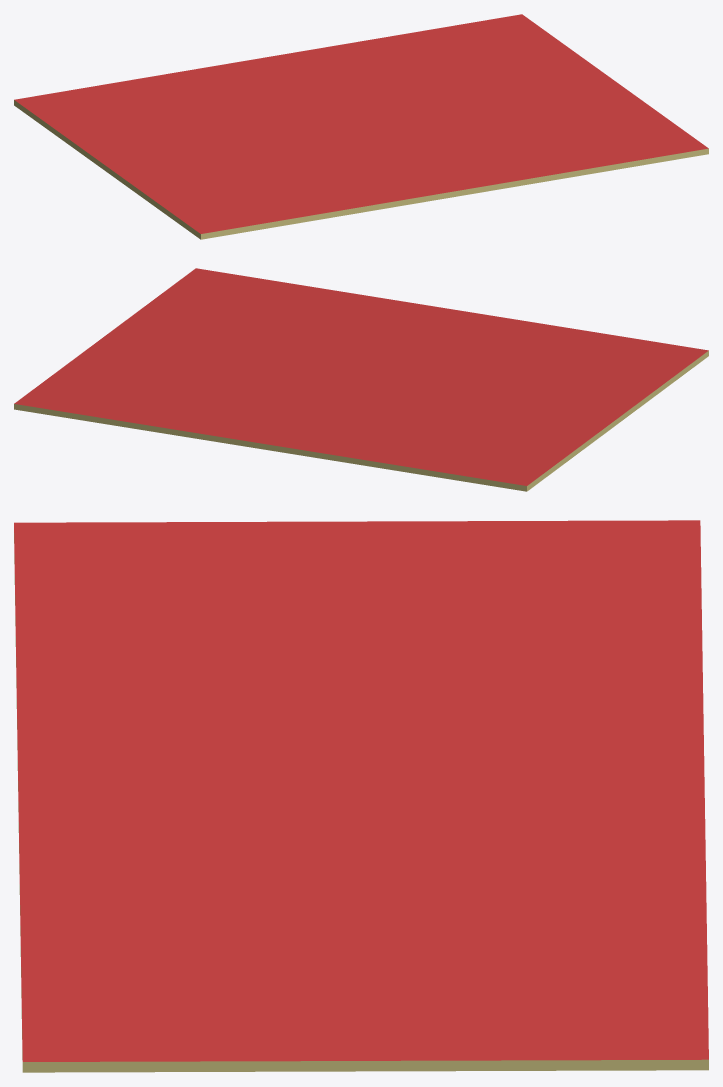
3 renders of one model, top to bottom at view 1: azimuth 30°, elevation 25°; view 2: azimuth 150°, elevation 25°; view 3: azimuth 270°, elevation 25°, orthographic. The views are drawn at different scales.
Size of the model in its own units: 9.5 by 5.99 by 0.82.
